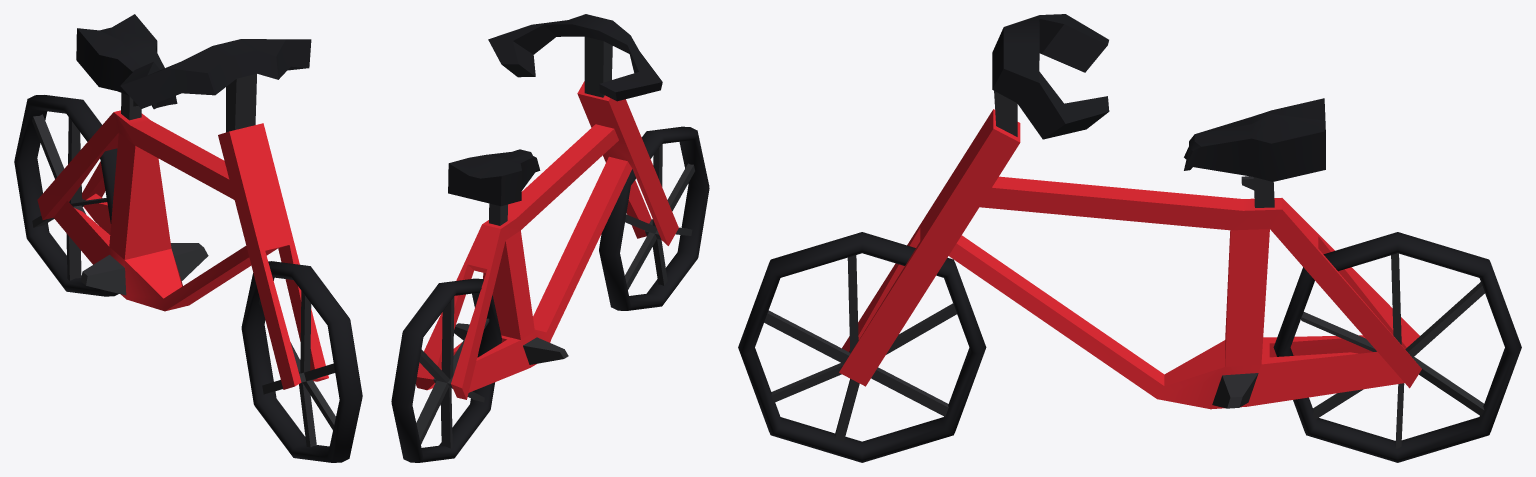
The model's file is Bike.fbx.
3 renders of one model, left to right at view 1: azimuth 30°, elevation 25°; view 2: azimuth 150°, elevation 25°; view 3: azimuth 270°, elevation 25°, orthographic. The views are drawn at different scales.
Visible parts, largest first — view 1: BikeBase, WheelF, WheelB; view 2: BikeBase, WheelF, WheelB; view 3: BikeBase, WheelF, WheelB.
Part boxes in pixels (x1,y1,x2,y2): BikeBase: [32, 14, 335, 447]; WheelF: [241, 261, 362, 462]; WheelB: [14, 95, 118, 296]; BikeBase: [416, 14, 694, 448]; WheelF: [599, 126, 709, 310]; WheelB: [391, 278, 501, 462]; BikeBase: [764, 14, 1484, 448]; WheelF: [738, 232, 986, 462]; WheelB: [1273, 232, 1521, 462].
Bounding box in the file's own units: 0.8385 × 1.51 × 2.53.
